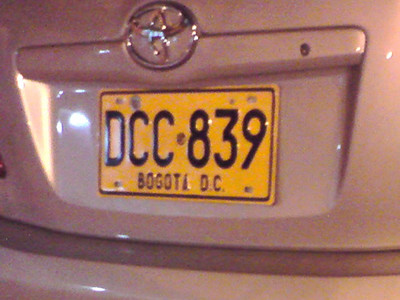placa_carro: (90, 79, 283, 206)
